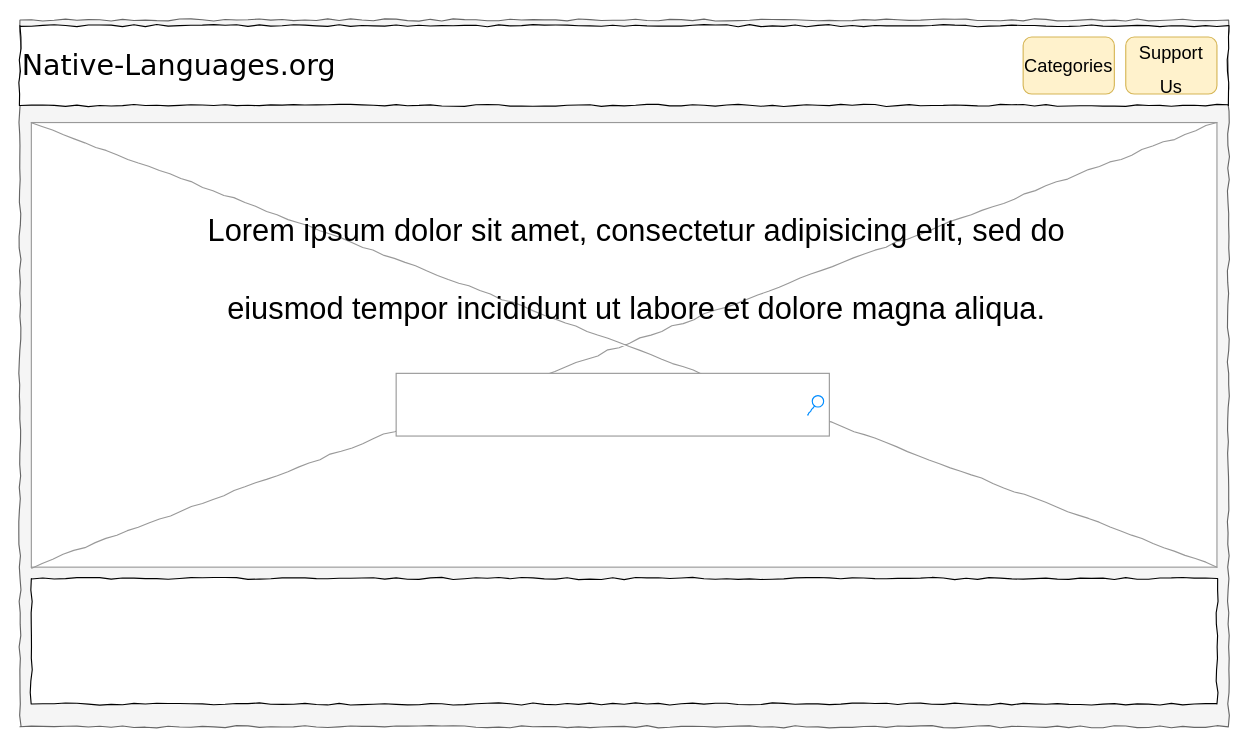
Some shapes in this 1248 by 747 pixel diagram are drawn without their labels. The shapes that lost their labels are listed below. From the top down, each one's centre as x and y in pixels, then its label:
At (612,404): "Search".
At (623,640): "Footer".
